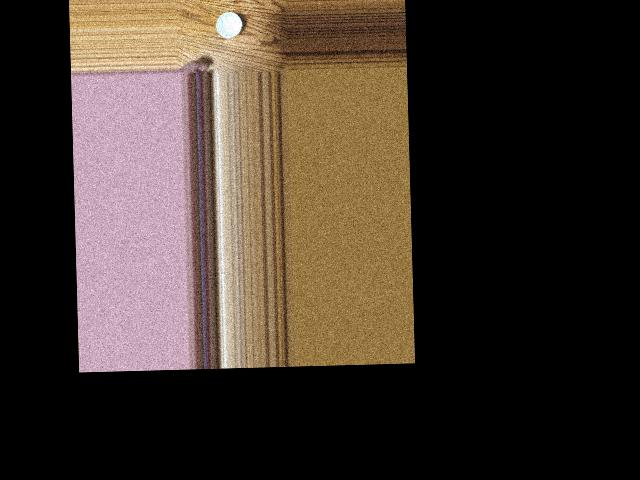cotage: (213, 11, 241, 40)
